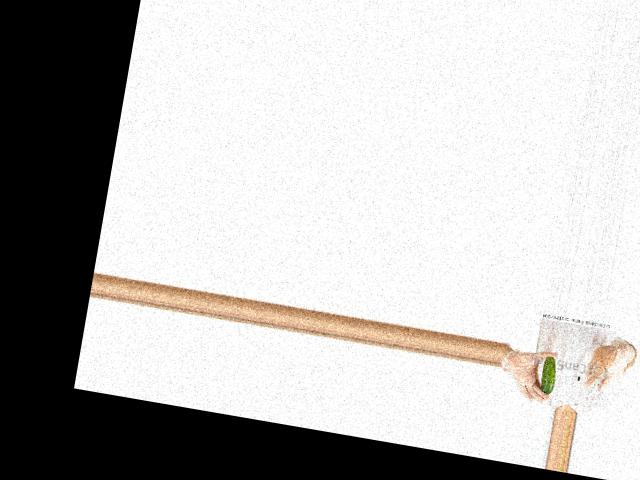cucumber: (537, 355, 557, 395)
